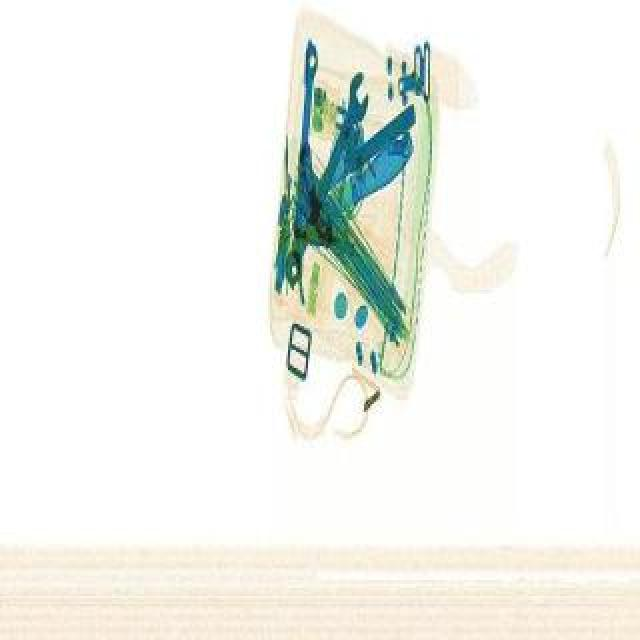gun: (272, 220, 358, 298)
knife: (292, 100, 424, 210), (298, 126, 426, 234)
scissors: (276, 68, 380, 284), (286, 44, 318, 284)
